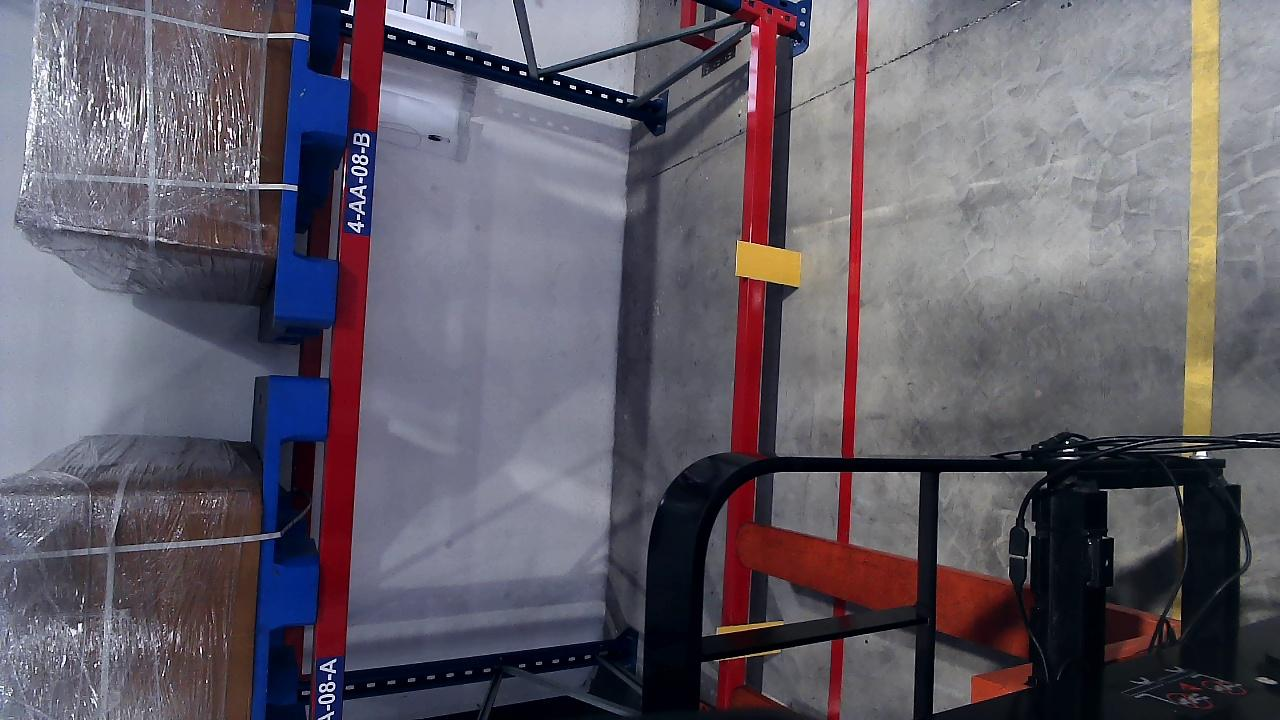h_rack: (315, 0, 389, 718), (732, 10, 781, 451)
orange_strip: (735, 241, 801, 287)
red_line: (840, 10, 870, 455)
small_pallet: (269, 0, 367, 315), (250, 378, 331, 720)
yellow_line: (1182, 0, 1221, 434)
